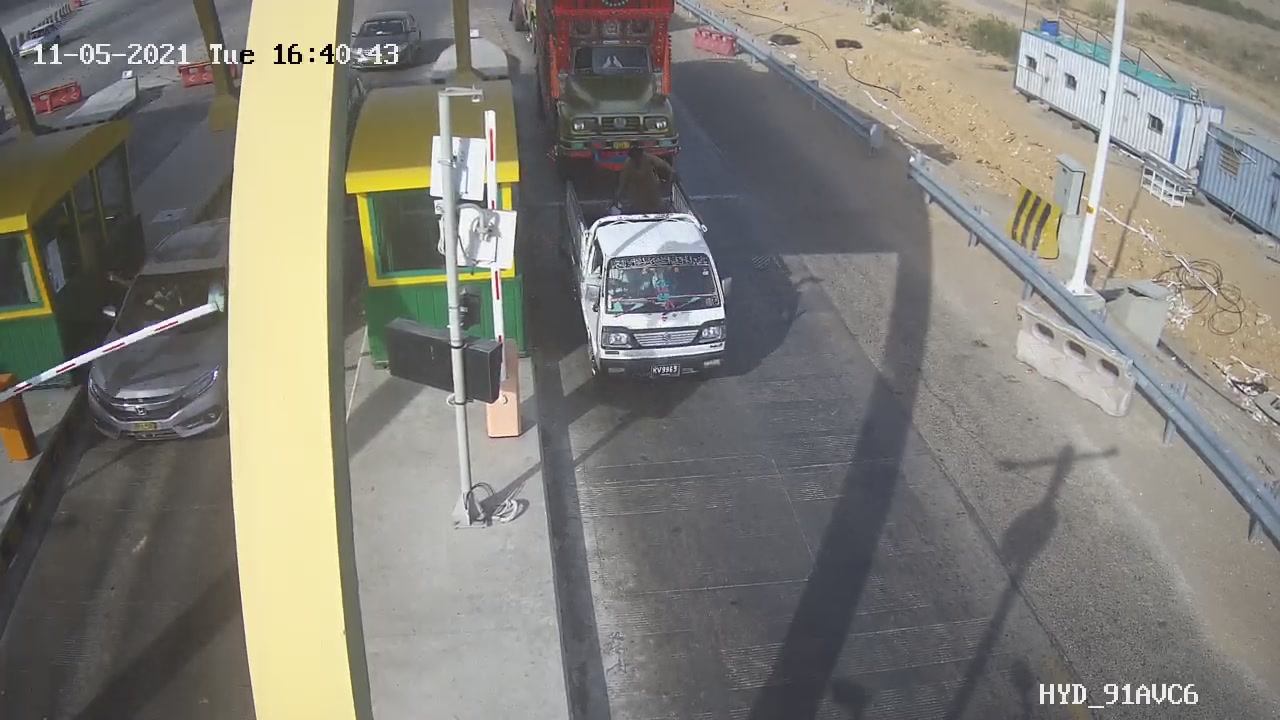F1: (544, 170, 766, 403)
